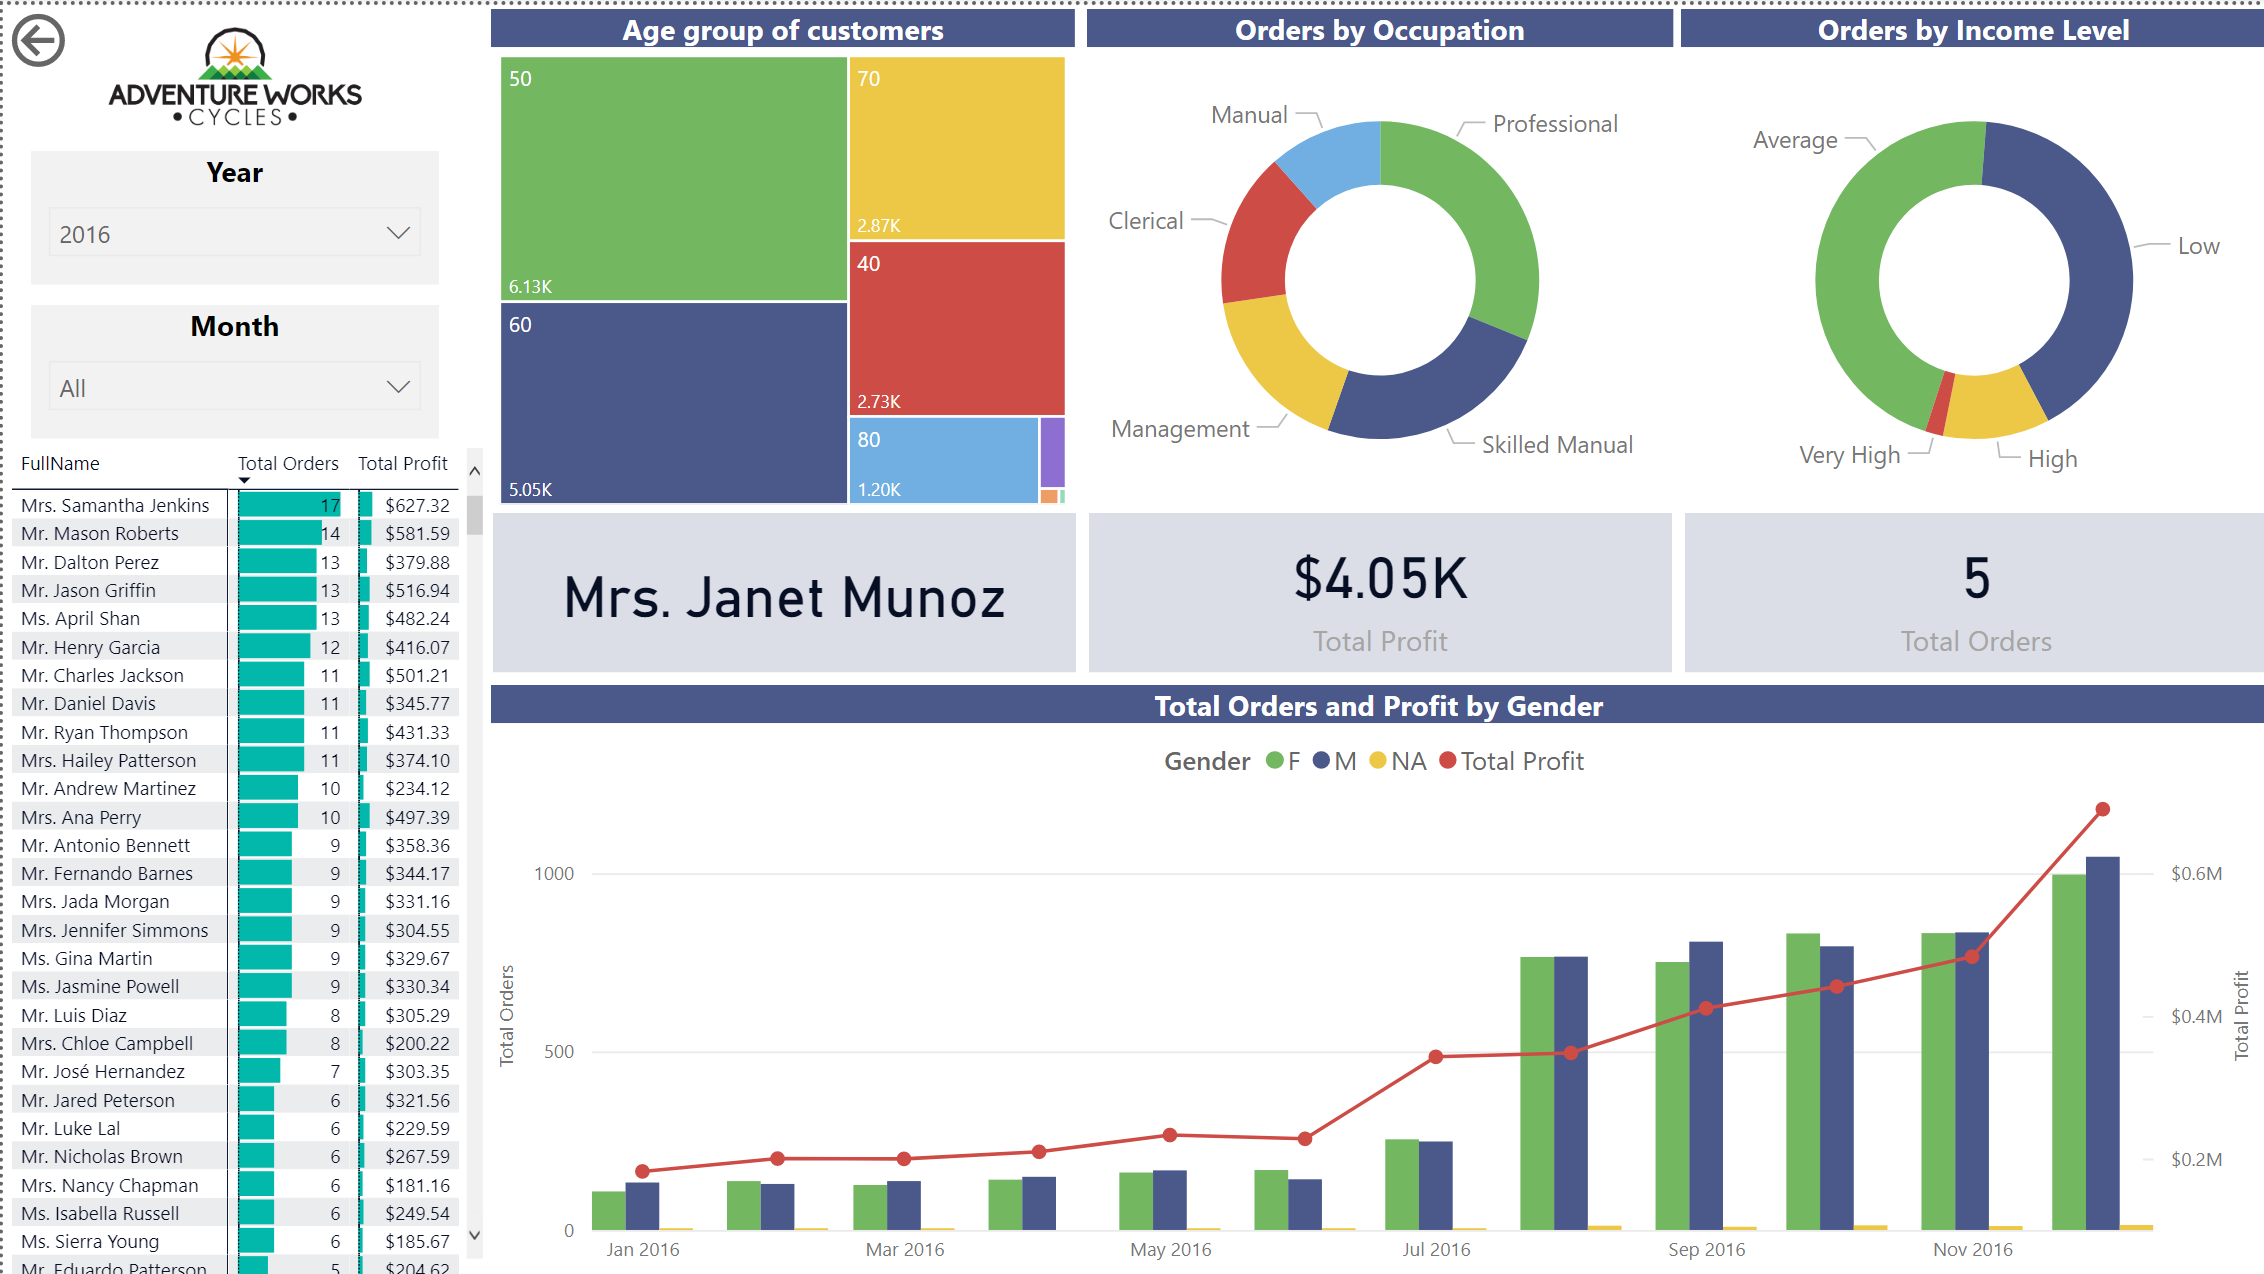

The page's visual inventory and layout, read from the dashboard file:
{"tool":"powerbi","page":{"name":"Customber Details","canvas":[1280,720],"ordinal":2},"visuals":[{"type":"image","box":[0,2.9,261.8,74.2],"z":0},{"type":"donutChart","title":"Orders by Occupation","fields":{"Category":["AW_Customer_Lookup.Occupation"],"Y":["AW_Sales.Total Orders"]},"box":[612.5,2.4,331.3,284.9],"z":1000},{"type":"treemap","title":"Age group of customers","fields":{"Group":["AW_Customer_Lookup.Current Age (bins)"],"Values":["CountNonNull(AW_Customer_Lookup.CustomerKey)"]},"box":[276.3,2.4,330.1,284.9],"z":2000},{"type":"actionButton","box":[0,0,100,40],"z":3000},{"type":"lineClusteredColumnComboChart","title":"Total Orders and Profit by Gender","fields":{"Category":["AW_Calendar_Lookup.Start of Month"],"Y":["AW_Sales.Total Orders"],"Series":["AW_Customer_Lookup.Gender"],"Y2":["AW_Sales.Total Profit"]},"box":[276.3,383.9,1003.7,336],"z":4000},{"type":"slicer","title":"Year","fields":{"Values":["AW_Calendar_Lookup.Year"]},"box":[16.2,82.7,230.3,75.3],"z":5000},{"type":"slicer","title":"Month","fields":{"Values":["AW_Calendar_Lookup.Month Name"]},"box":[16.2,169.8,230.3,75.3],"z":6000},{"type":"donutChart","title":"Orders by Income Level","fields":{"Y":["AW_Sales.Total Orders"],"Category":["AW_Customer_Lookup.IncomeLevel"]},"box":[948.7,2.4,331.3,284.9],"z":7000},{"type":"pivotTable","fields":{"Rows":["AW_Customer_Lookup.FullName"],"Values":["AW_Sales.Total Orders","AW_Sales.Total Profit"]},"box":[0,245.1,276.1,476.9],"z":8000},{"type":"card","fields":{"Values":["Min(AW_Customer_Lookup.FullName)"]},"box":[276.5,287.5,329.6,90],"z":9000},{"type":"card","fields":{"Values":["AW_Sales.Total Profit"]},"box":[613.4,287.5,329.6,90],"z":10000},{"type":"card","fields":{"Values":["AW_Sales.Total Orders"]},"box":[950.4,287.5,329.6,90],"z":11000}]}

Visuals, with their boxes in screenshot pixels (x1, y1, x2, y2), scaled from the page's 1280x720 canvas onto the 2264x1274 screenshot:
image: bbox=(0, 5, 463, 136)
"Orders by Occupation" donutChart: bbox=(1083, 4, 1669, 508)
"Age group of customers" treemap: bbox=(489, 4, 1073, 508)
actionButton: bbox=(0, 0, 177, 71)
"Total Orders and Profit by Gender" lineClusteredColumnComboChart: bbox=(489, 679, 2263, 1273)
"Year" slicer: bbox=(29, 146, 436, 280)
"Month" slicer: bbox=(29, 300, 436, 434)
"Orders by Income Level" donutChart: bbox=(1678, 4, 2263, 508)
pivotTable - AW_Customer_Lookup.FullName x AW_Sales.Total Orders: bbox=(0, 434, 488, 1273)
card - Min(AW_Customer_Lookup.FullName): bbox=(489, 509, 1072, 668)
card - AW_Sales.Total Profit: bbox=(1085, 509, 1668, 668)
card - AW_Sales.Total Orders: bbox=(1681, 509, 2263, 668)
